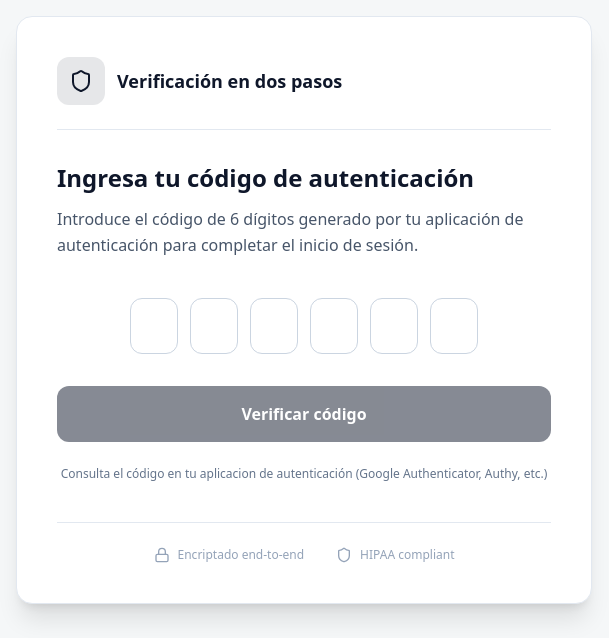
Test: LoginTwoFactorPage › Validación del botón › debe habilitar el botón cuando se han ingresado los 6 dígitos
In the 1st field: (154, 326) [130,298,178,354], type "1"
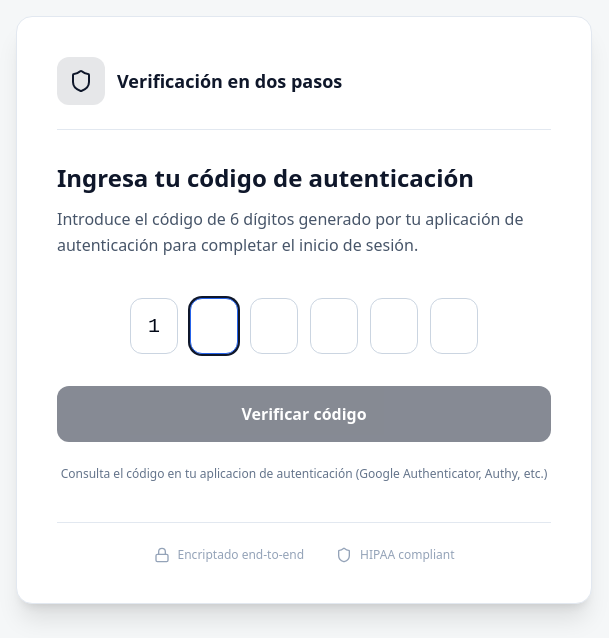
In the 2nd field: (214, 326) [190,298,238,354], type "2"
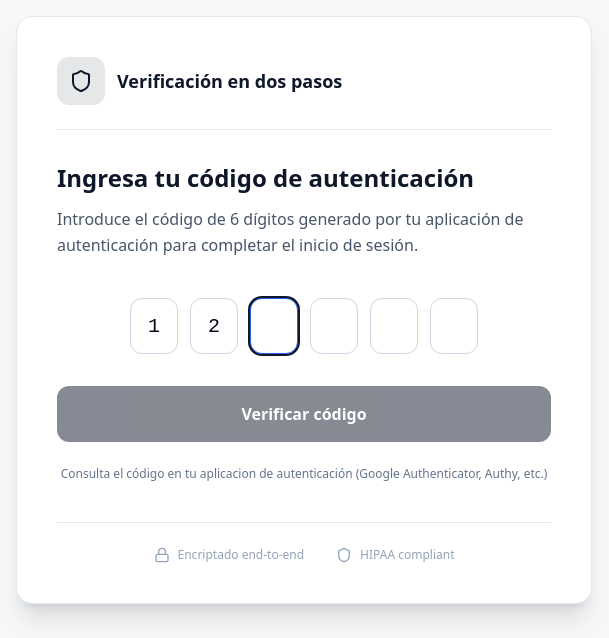
In the 3rd field: (274, 326) [250,298,298,354], type "3"
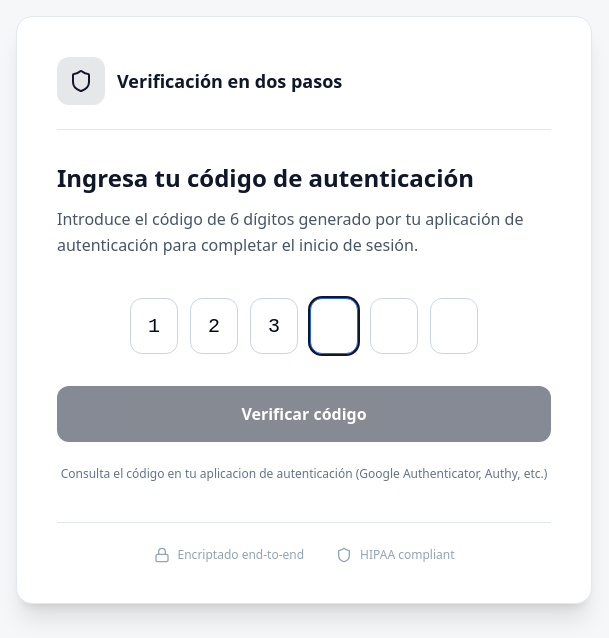
In the 4th field: (334, 326) [310,298,358,354], type "4"
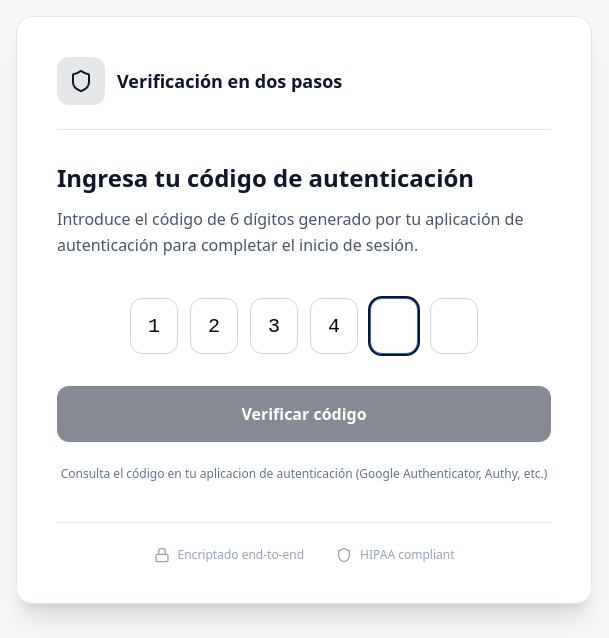
In the 5th field: (394, 326) [370,298,418,354], type "5"
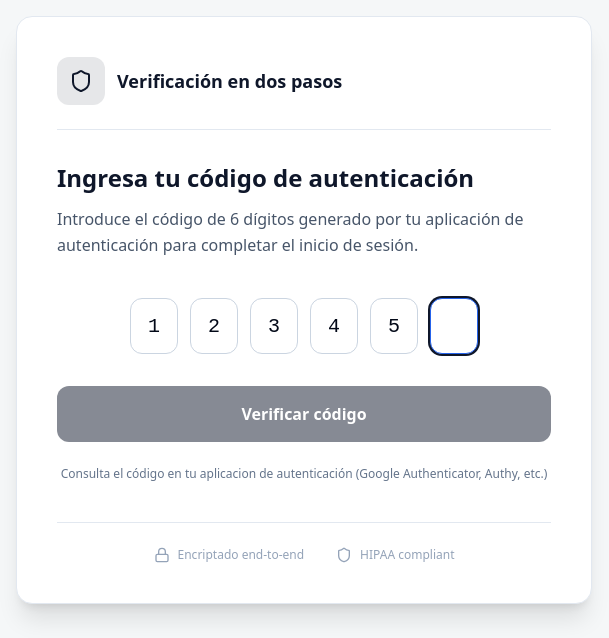
In the 6th field: (454, 326) [430,298,478,354], type "6"
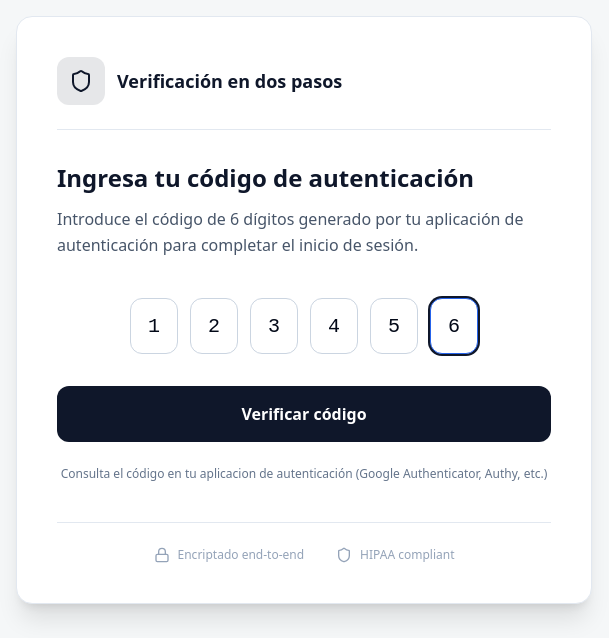
Check: the button "Verificar código" is enabled, box [57,386,551,442]
